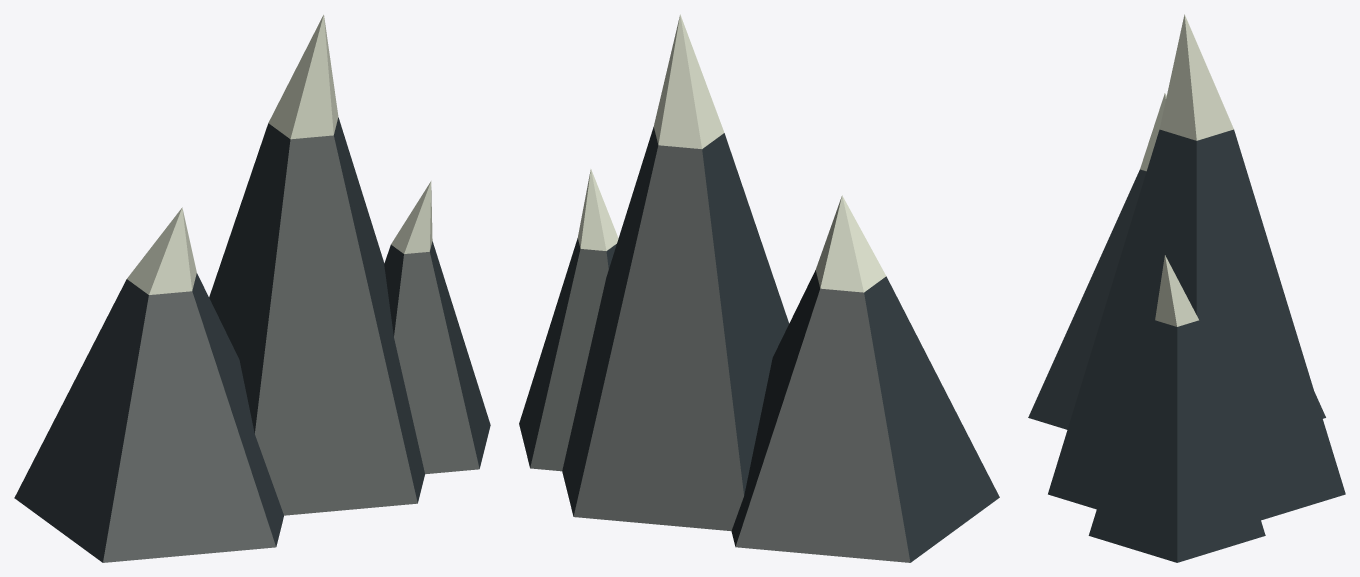
The model's file is MountainRidge.fbx.
3 renders of one model, left to right at view 1: azimuth 30°, elevation 25°; view 2: azimuth 150°, elevation 25°; view 3: azimuth 270°, elevation 25°, orthographic. The views are drawn at different scales.
Visible parts, largest first — view 1: MountainRidge; view 2: MountainRidge; view 3: MountainRidge.
Part boxes in pixels (x1=…): MountainRidge: x1=14, y1=14, x2=490, y2=562; MountainRidge: x1=519, y1=14, x2=999, y2=562; MountainRidge: x1=1028, y1=14, x2=1345, y2=562.
Bounding box in the file's own units: 106 × 105 × 64.87.
